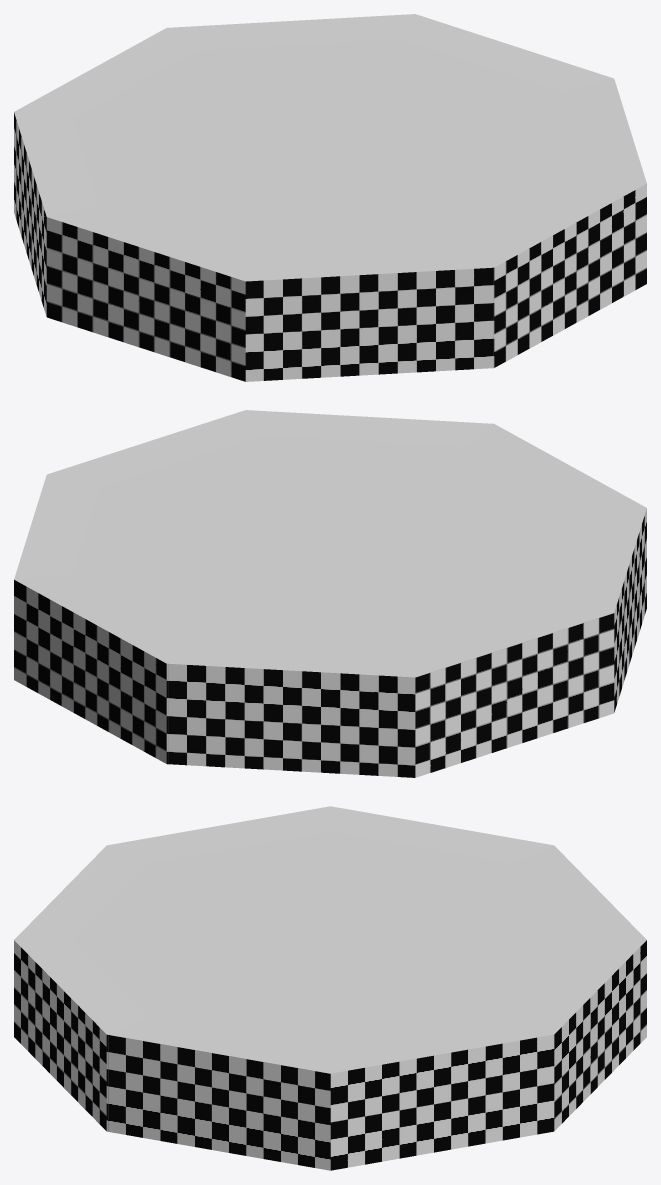
The model's file is Finish.fbx.
3 renders of one model, top to bottom at view 1: azimuth 30°, elevation 25°; view 2: azimuth 150°, elevation 25°; view 3: azimuth 270°, elevation 25°, orthographic. The views are drawn at different scales.
Visible parts, largest first — view 1: Torus; view 2: Torus; view 3: Torus.
Part boxes in pixels (x1,y1,x2,y2): Torus: (14,14,646,381); Torus: (14,410,646,777); Torus: (14,806,646,1170).
Bounding box in the file's own units: 169 × 28.59 × 169.
